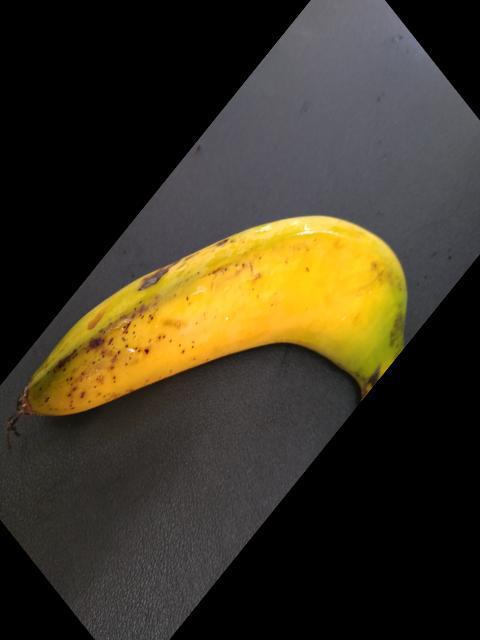ripe: (1, 203, 423, 456)
